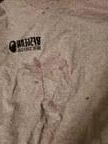wine: (26, 53, 65, 77), (44, 94, 62, 114), (80, 94, 90, 102), (41, 8, 49, 15)
